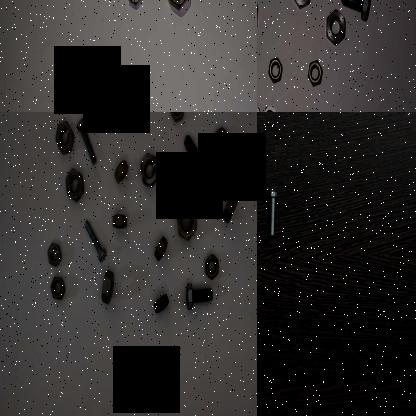Bolts: (182, 132, 210, 186), (80, 216, 108, 262), (76, 116, 98, 168), (183, 280, 217, 310), (338, 0, 374, 23), (266, 190, 278, 236)
NUTS: (324, 7, 348, 47), (176, 201, 198, 243), (63, 166, 85, 206), (222, 186, 242, 227), (140, 152, 160, 192), (54, 118, 76, 154), (99, 268, 117, 302), (214, 124, 230, 157), (266, 53, 284, 82), (306, 60, 323, 90), (152, 290, 170, 318), (204, 252, 220, 282), (50, 274, 66, 304), (113, 156, 128, 188), (46, 242, 62, 268), (155, 234, 169, 263), (112, 212, 129, 232), (164, 0, 190, 13), (291, 0, 313, 10), (167, 112, 185, 123), (125, 0, 143, 10), (262, 102, 278, 112)
